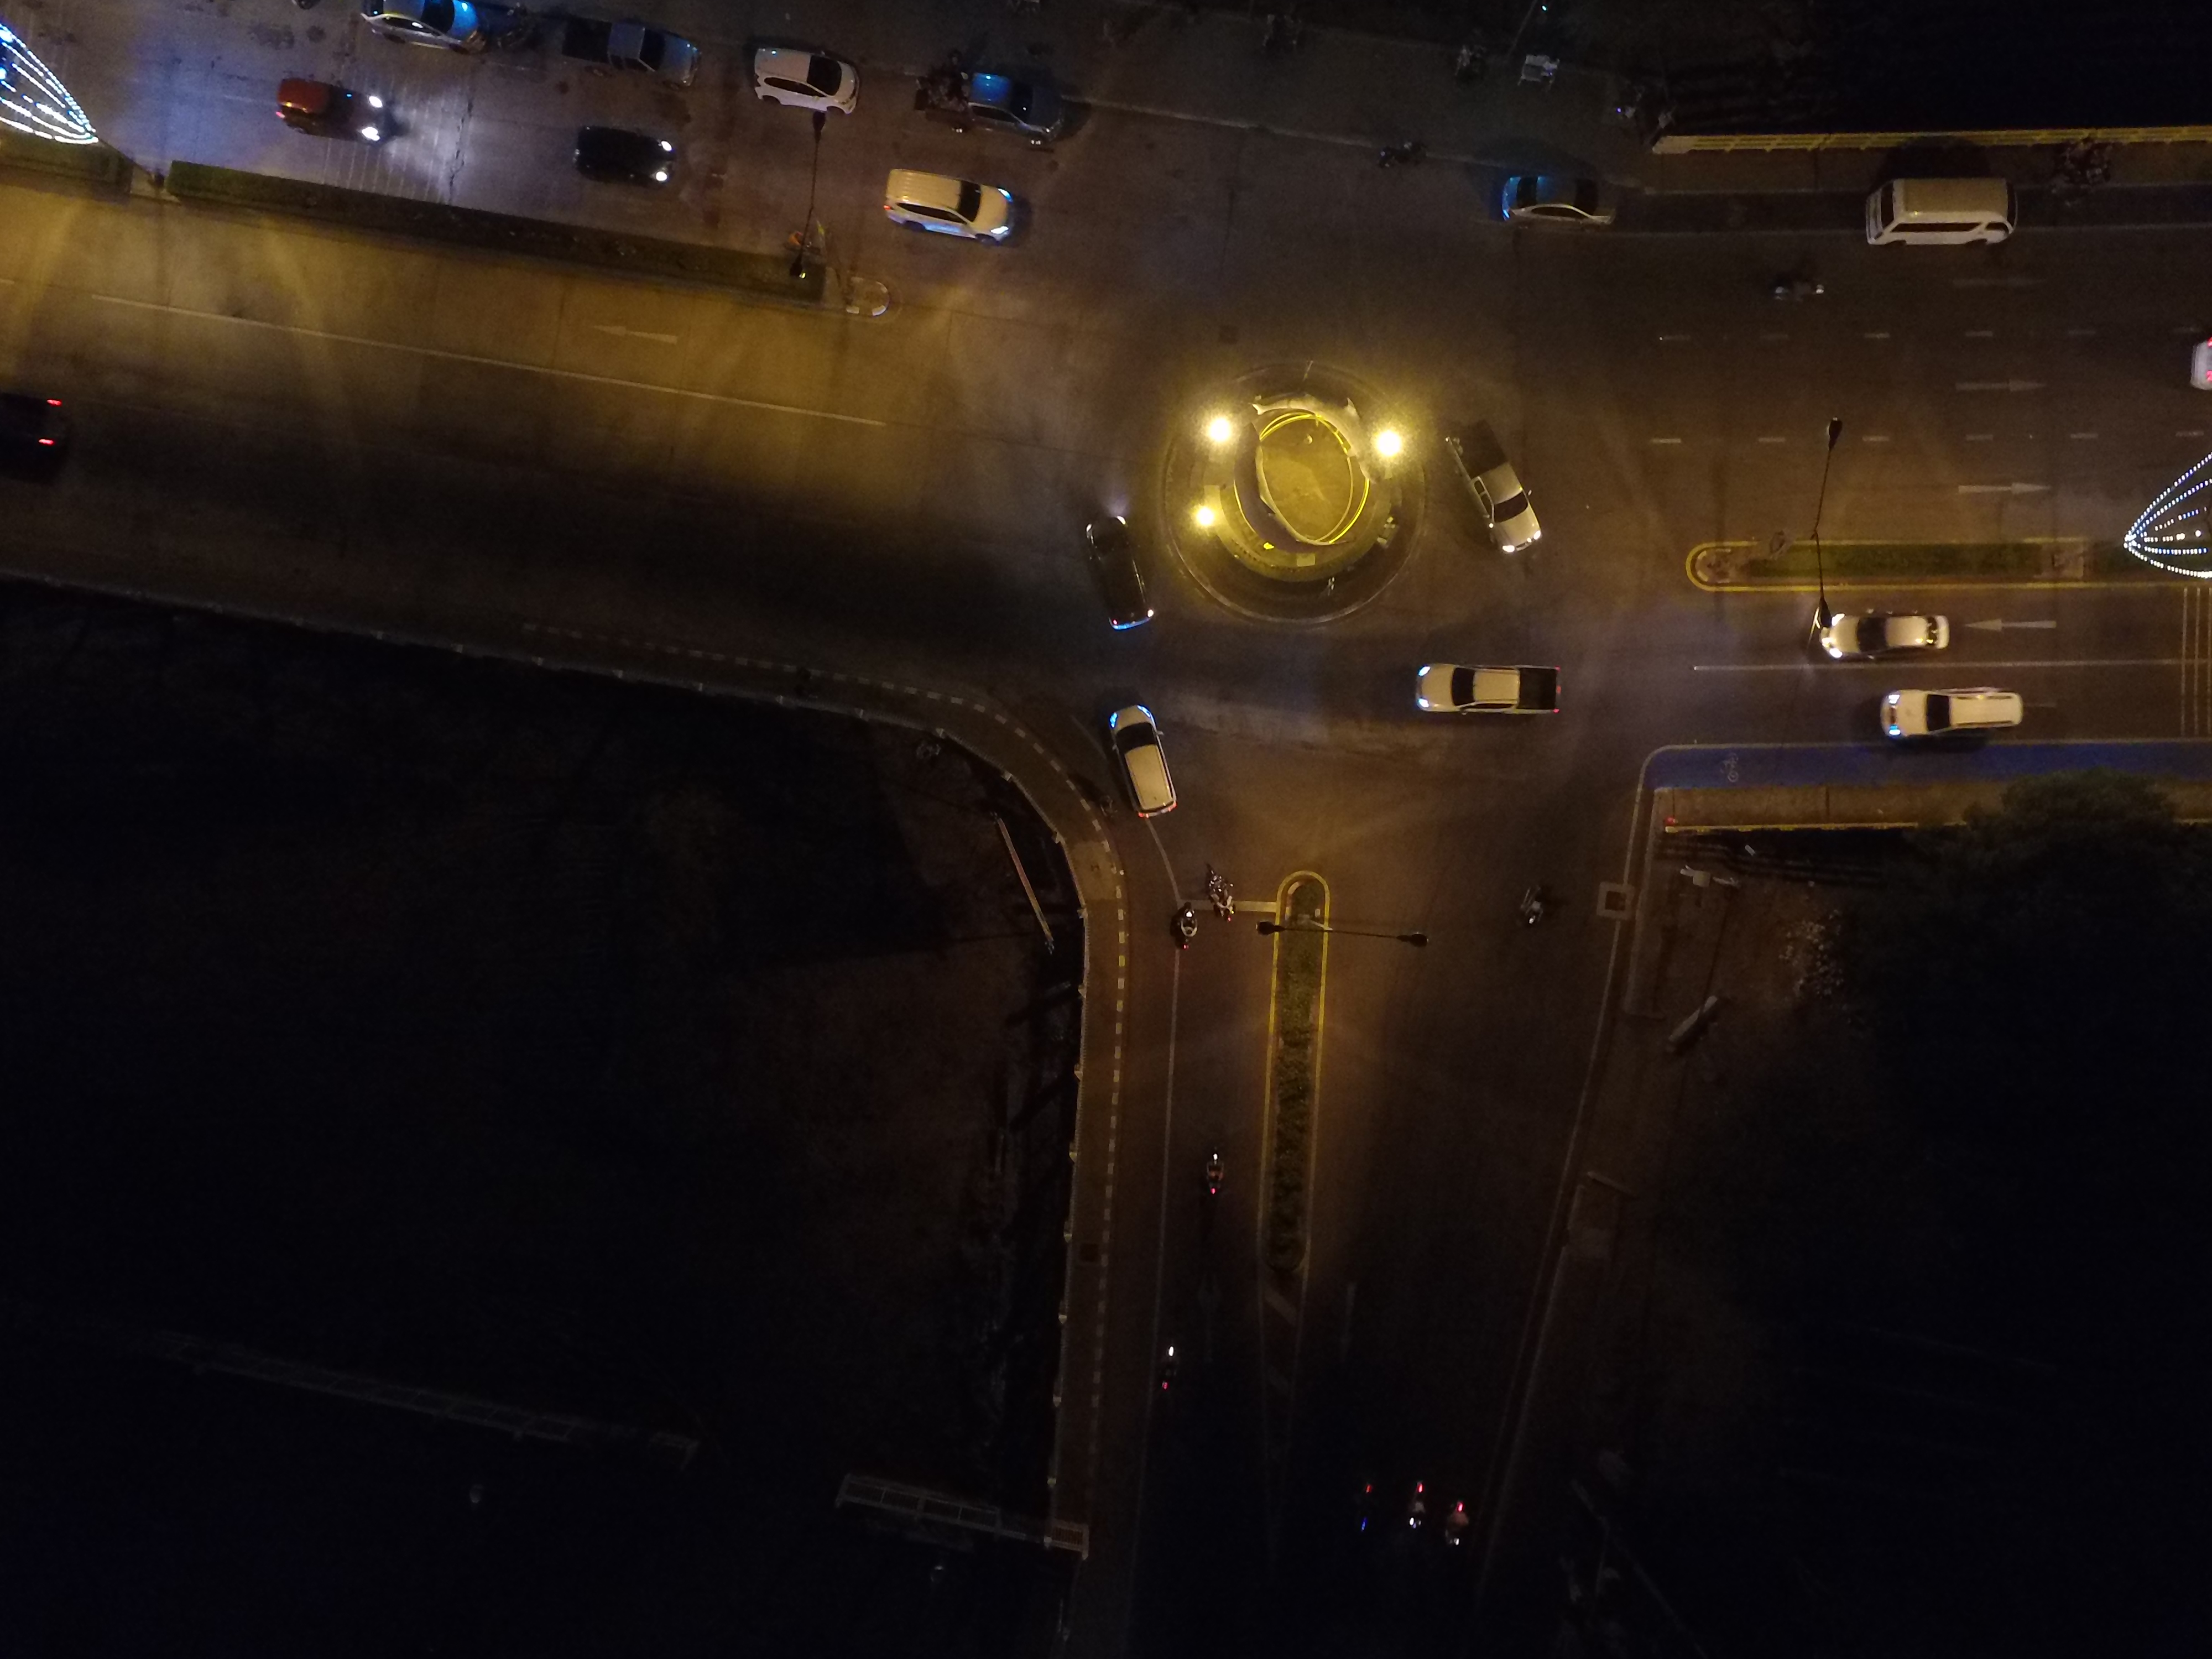car: (1425, 387, 1554, 561), (1045, 481, 1174, 655), (1393, 641, 1583, 748), (1801, 580, 1968, 681), (1467, 152, 1634, 253), (923, 58, 1090, 159), (1869, 662, 2034, 763), (1853, 169, 2019, 270), (864, 159, 1029, 260), (1094, 690, 1195, 836), (249, 66, 411, 155), (726, 40, 887, 129), (559, 120, 719, 209), (545, 12, 705, 101), (348, 0, 496, 63)
